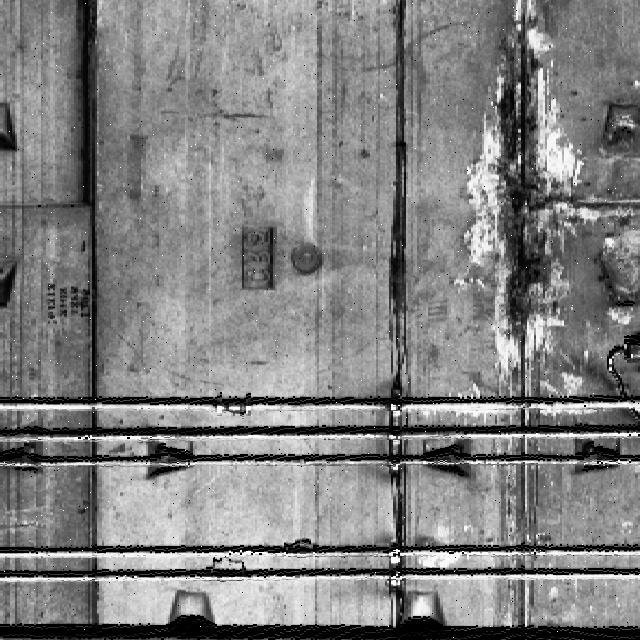leakage: (459, 0, 596, 385), (380, 4, 418, 639)
